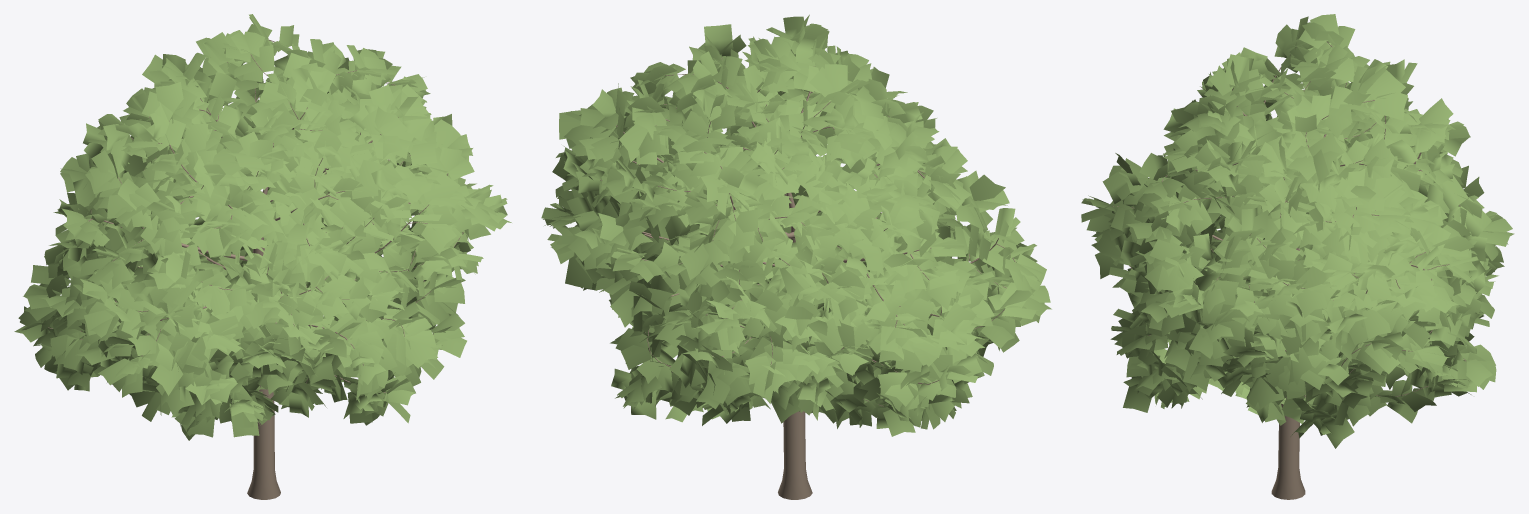
Rendered from Broadleaf_3_lod0.glb.
3 views of the same model, side by side, from view 1: azimuth 30°, elevation 25°; view 2: azimuth 150°, elevation 25°; view 3: azimuth 270°, elevation 25° (orthographic). The views are drawn at different scales.
Parts seen in each view (by area): view 1: Broadleaf_3_lod0; view 2: Broadleaf_3_lod0; view 3: Broadleaf_3_lod0.
Boxes of the visible parts, x1,y1,x2,y2 form: Broadleaf_3_lod0: [14, 14, 511, 499]; Broadleaf_3_lod0: [541, 14, 1051, 499]; Broadleaf_3_lod0: [1081, 14, 1514, 499].
Bounding box in the file's own units: 12.58 × 12.35 × 10.88.
